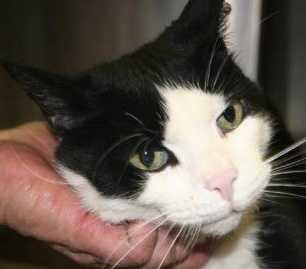Cat: (6, 0, 288, 268)
